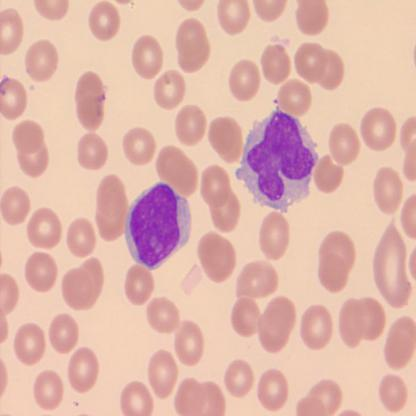Blast: (122, 179, 191, 270)
